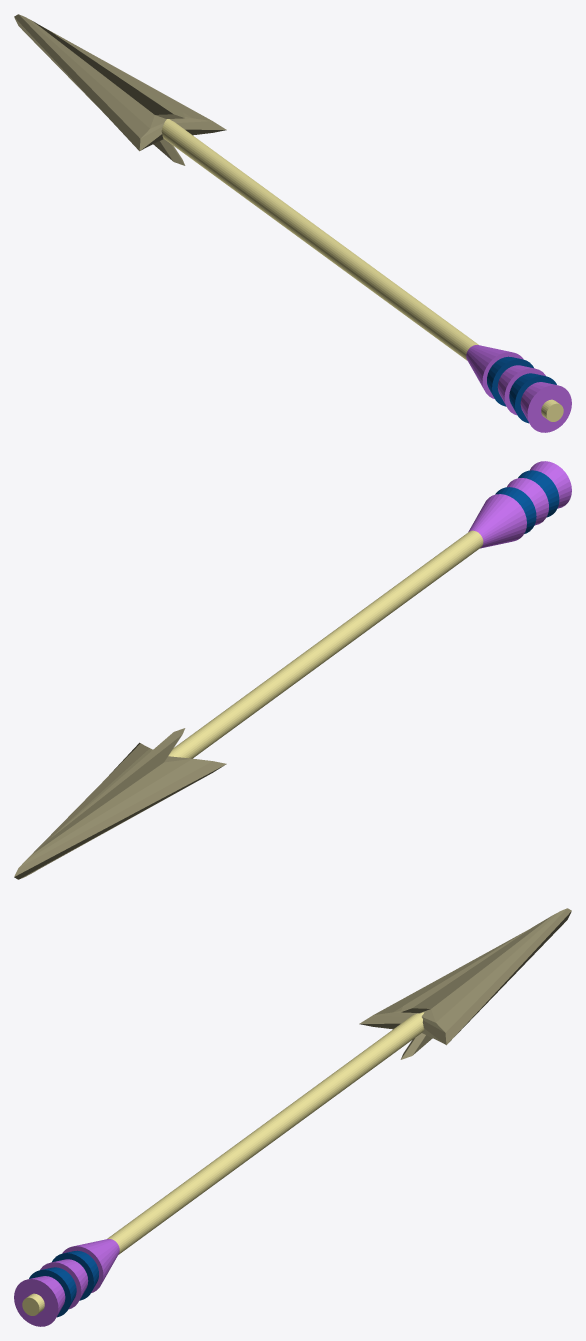
The model's file is BoneBolt.fbx.
3 views of the same model, one above another, from view 1: azimuth 30°, elevation 25°; view 2: azimuth 150°, elevation 25°; view 3: azimuth 330°, elevation 25° (orthographic).
Visible parts, largest first — view 1: Cylinder, Cube, Cone, Cone.004, Cone.001, Cone.002, Cone.003; view 2: Cube, Cylinder, Cone.004, Cone, Cone.002, Cone.001, Cone.003; view 3: Cylinder, Cube, Cone, Cone.004, Cone.001, Cone.002, Cone.003.
Part boxes in pixels (x1=…): Cylinder: x1=161, y1=119, x2=563, y2=421; Cube: x1=14, y1=14, x2=226, y2=165; Cone: x1=520, y1=382, x2=571, y2=432; Cone.004: x1=466, y1=345, x2=523, y2=398; Cone.001: x1=509, y1=373, x2=556, y2=423; Cone.002: x1=497, y1=365, x2=545, y2=415; Cone.003: x1=487, y1=356, x2=533, y2=406; Cube: x1=14, y1=728, x2=226, y2=879; Cylinder: x1=168, y1=530, x2=483, y2=758; Cone.004: x1=468, y1=494, x2=526, y2=548; Cone: x1=529, y1=461, x2=571, y2=508; Cone.002: x1=507, y1=478, x2=548, y2=525; Cone.001: x1=518, y1=470, x2=559, y2=517; Cone.003: x1=495, y1=487, x2=536, y2=533; Cylinder: x1=22, y1=1012, x2=424, y2=1315; Cube: x1=359, y1=908, x2=571, y2=1059; Cone: x1=14, y1=1276, x2=65, y2=1326; Cone.004: x1=62, y1=1239, x2=119, y2=1292; Cone.001: x1=29, y1=1267, x2=76, y2=1317; Cone.002: x1=40, y1=1259, x2=88, y2=1309; Cone.003: x1=52, y1=1250, x2=98, y2=1300.
Size of the model in its own units: 151 by 78.48 by 1612.
